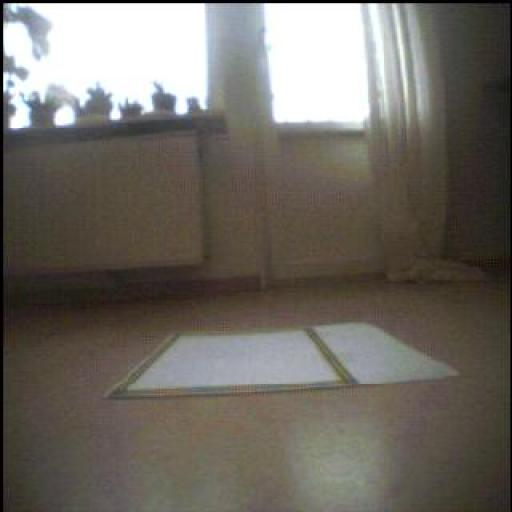Pad: (110, 324, 459, 398)
